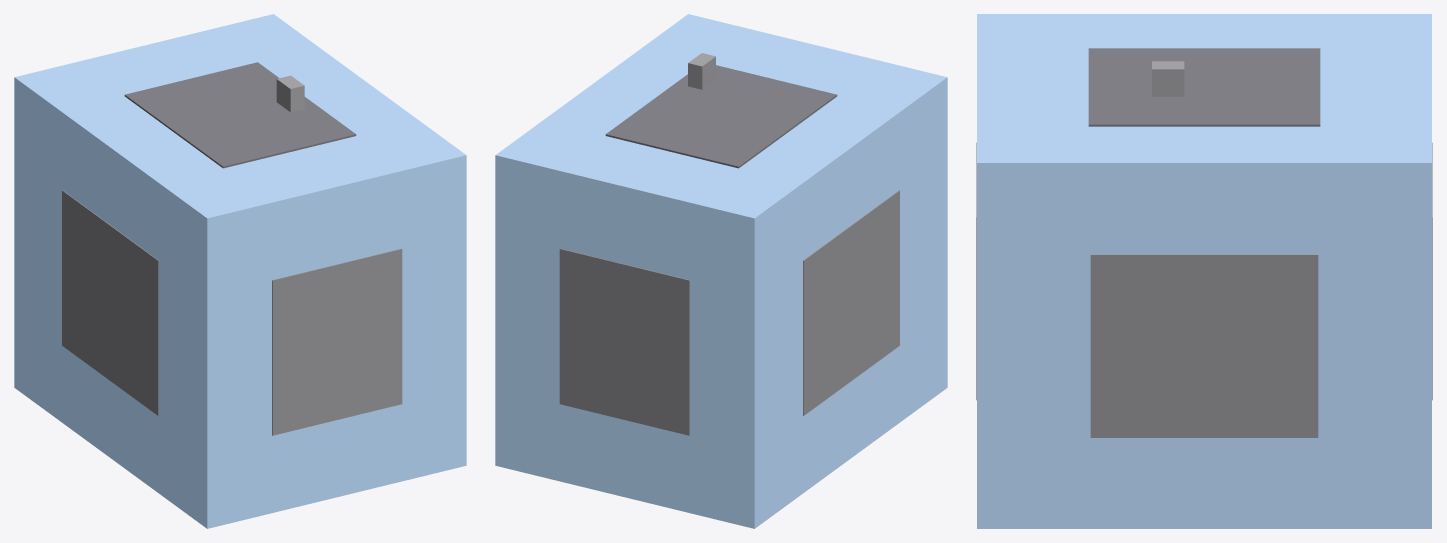
The model's file is office_1.glb.
The picture shows the model from 3 angles, left to right: view 1: azimuth 30°, elevation 25°; view 2: azimuth 150°, elevation 25°; view 3: azimuth 270°, elevation 25°; orthographic projection. The views are drawn at different scales.
Parts seen in each view (by area): view 1: office_1_body, office_1_col.002, office_1_col, office_1_roof, office_1_mech; view 2: office_1_body, office_1_col.003, office_1_col, office_1_roof, office_1_mech; view 3: office_1_body, office_1_col.001, office_1_roof, office_1_mech.
Part boxes in pixels (x1,y1,x2,y2): office_1_body: (14,14,466,528); office_1_col.002: (272,248,402,435); office_1_col: (62,190,158,415); office_1_roof: (124,62,356,168); office_1_mech: (276,75,304,112); office_1_body: (495,14,947,528); office_1_col.003: (559,248,689,435); office_1_col: (803,190,899,415); office_1_roof: (605,65,837,168); office_1_mech: (688,53,715,89); office_1_body: (977,14,1431,528); office_1_col.001: (1090,254,1318,437); office_1_roof: (1088,48,1320,126); office_1_mech: (1152,61,1184,96).
Bounding box in the file's own units: 15.37 × 19.6 × 19.79.
